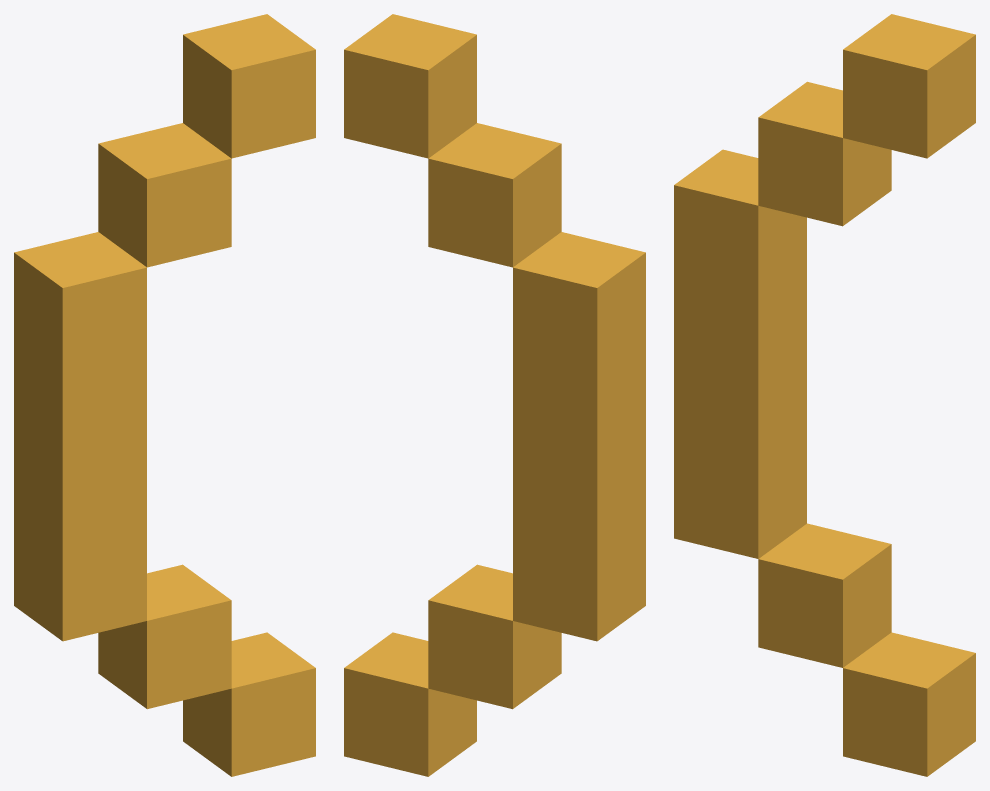
The model's file is Bow-Orange.vox.obj.
3 views of the same model, side by side, from view 1: azimuth 30°, elevation 25°; view 2: azimuth 150°, elevation 25°; view 3: azimuth 330°, elevation 25° (orthographic).
Size of the model in its own units: 0.3 by 0.8 by 0.1.
Materials: 1 (1 with a texture image).
